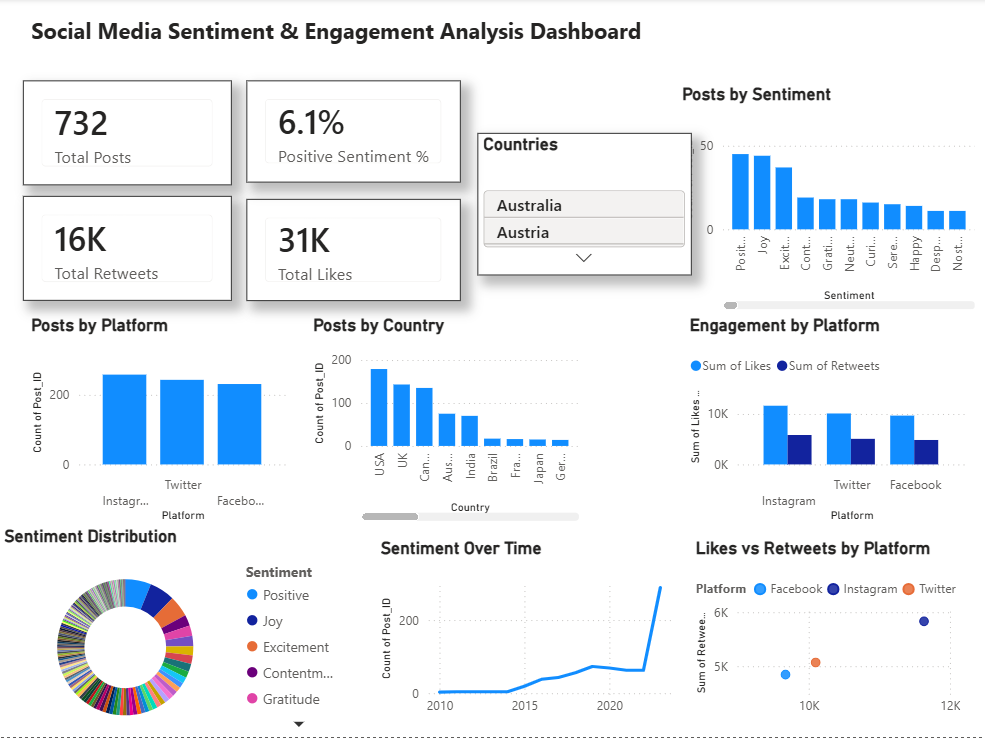

This screenshot's page, from the dashboard's own definition file:
{"tool":"powerbi","page":{"name":"Page 1","canvas":[960,720],"ordinal":0},"visuals":[{"type":"clusteredColumnChart","title":"Posts by Sentiment","fields":{"Category":["3) Sentiment dataset.Sentiment"],"Y":["CountNonNull(3) Sentiment dataset.Post_ID)"]},"box":[660.6,83.3,295.2,225.1],"z":0},{"type":"donutChart","title":"Sentiment Distribution","fields":{"Category":["3) Sentiment dataset.Sentiment"],"Y":["CountNonNull(3) Sentiment dataset.Post_ID)"]},"box":[0,514.4,346.4,206.1],"z":1000},{"type":"clusteredColumnChart","title":"Posts by Platform","fields":{"Category":["3) Sentiment dataset.Platform"],"Y":["CountNonNull(3) Sentiment dataset.Post_ID)"]},"box":[26.3,308.4,258.7,206.1],"z":2000},{"type":"clusteredColumnChart","title":"Posts by Country","fields":{"Y":["CountNonNull(3) Sentiment dataset.Post_ID)"],"Category":["3) Sentiment dataset.Country"]},"box":[301.1,308.4,268.9,206.1],"z":3000},{"type":"clusteredColumnChart","title":"Engagement by Platform","fields":{"Category":["3) Sentiment dataset.Platform"],"Y":["Sum(3) Sentiment dataset.Likes)","Sum(3) Sentiment dataset.Retweets)"]},"box":[667.9,308.4,279.1,206.1],"z":4000},{"type":"lineChart","title":"Sentiment Over Time","fields":{"Category":["3) Sentiment dataset.Timestamp.Variation.Date Hierarchy.Year","3) Sentiment dataset.Timestamp.Variation.Date Hierarchy.Quarter","3) Sentiment dataset.Timestamp.Variation.Date Hierarchy.Month","3) Sentiment dataset.Timestamp.Variation.Date Hierarchy.Day"],"Y":["CountNonNull(3) Sentiment dataset.Post_ID)"]},"box":[366.8,526.1,295.2,181.2],"z":5000},{"type":"scatterChart","title":"Likes vs Retweets by Platform","fields":{"X":["Sum(3) Sentiment dataset.Likes)"],"Y":["Sum(3) Sentiment dataset.Retweets)"],"Series":["3) Sentiment dataset.Platform"]},"box":[673.7,526.1,267.4,181.2],"z":6000},{"type":"cardVisual","fields":{"Data":["3) Sentiment dataset.Total Posts"]},"box":[23.4,80.4,203.1,102.3],"z":7000},{"type":"cardVisual","title":"Countries","fields":{"Rows":["3) Sentiment dataset.Country"]},"box":[466.2,131.5,209,138.8],"z":8000},{"type":"cardVisual","fields":{"Data":["3) Sentiment dataset.Total Retweets"]},"box":[23.4,192.9,203.1,102.3],"z":9000},{"type":"cardVisual","fields":{"Data":["3) Sentiment dataset.Total Likes"]},"box":[241.1,195.8,209,99.4],"z":10000},{"type":"textbox","box":[26.3,11.7,634.3,51.2],"z":11000},{"type":"cardVisual","fields":{"Data":["3) Sentiment dataset.Positive Sentiment %"]},"box":[241.1,80.4,209,99.4],"z":12000}]}

Visuals, with their boxes in screenshot pixels (x1, y1, x2, y2), scaled from the page's 960x720 canvas onto the 985x738 screenshot:
"Posts by Sentiment" clusteredColumnChart: {"x1": 678, "y1": 85, "x2": 981, "y2": 316}
"Sentiment Distribution" donutChart: {"x1": 0, "y1": 527, "x2": 355, "y2": 737}
"Posts by Platform" clusteredColumnChart: {"x1": 27, "y1": 316, "x2": 292, "y2": 527}
"Posts by Country" clusteredColumnChart: {"x1": 309, "y1": 316, "x2": 585, "y2": 527}
"Engagement by Platform" clusteredColumnChart: {"x1": 685, "y1": 316, "x2": 972, "y2": 527}
"Sentiment Over Time" lineChart: {"x1": 376, "y1": 539, "x2": 679, "y2": 725}
"Likes vs Retweets by Platform" scatterChart: {"x1": 691, "y1": 539, "x2": 966, "y2": 725}
cardVisual - 3) Sentiment dataset.Total Posts: {"x1": 24, "y1": 82, "x2": 232, "y2": 187}
"Countries" cardVisual: {"x1": 478, "y1": 135, "x2": 693, "y2": 277}
cardVisual - 3) Sentiment dataset.Total Retweets: {"x1": 24, "y1": 198, "x2": 232, "y2": 303}
cardVisual - 3) Sentiment dataset.Total Likes: {"x1": 247, "y1": 201, "x2": 462, "y2": 303}
textbox: {"x1": 27, "y1": 12, "x2": 678, "y2": 64}
cardVisual - 3) Sentiment dataset.Positive Sentiment %: {"x1": 247, "y1": 82, "x2": 462, "y2": 184}
